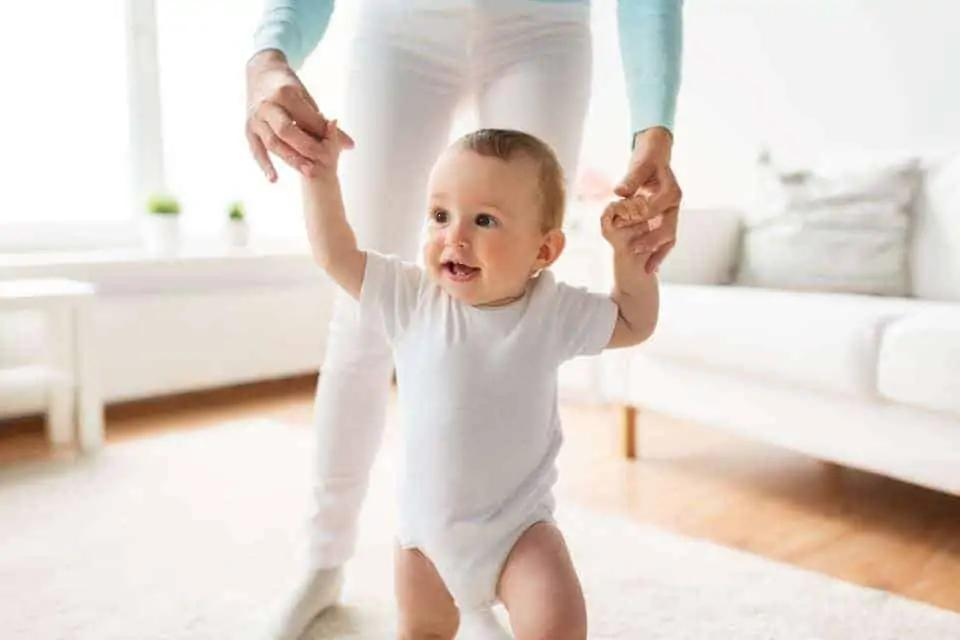child: (279, 100, 674, 640)
